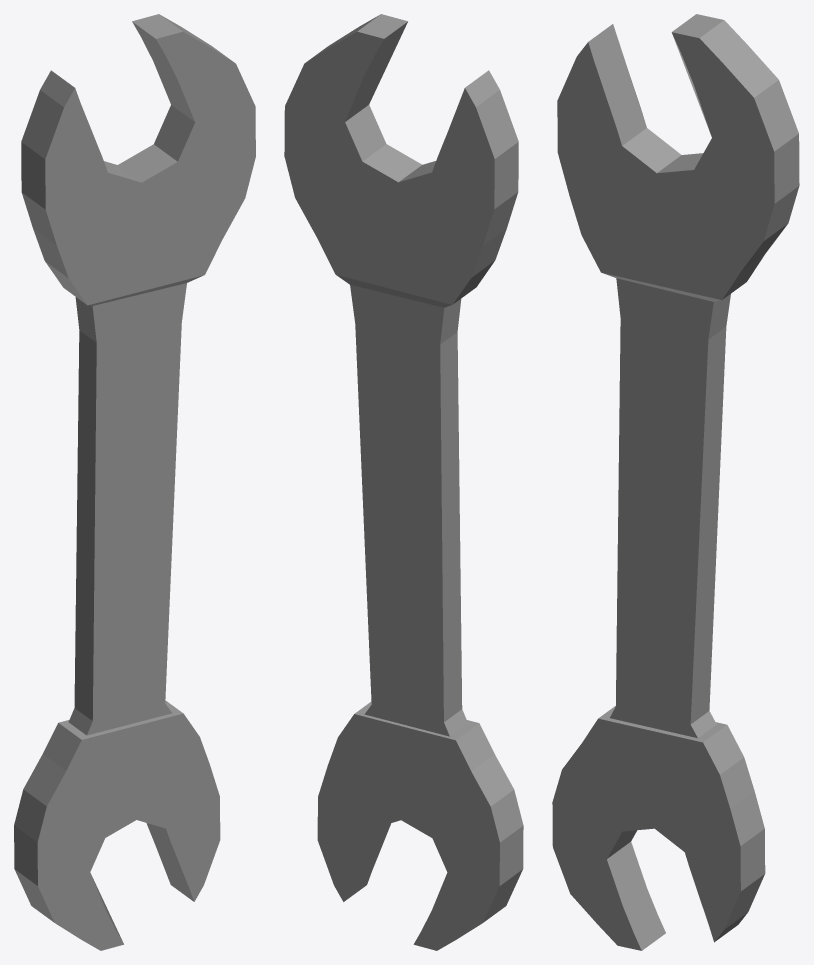
Rendered from wrench02.obj.
3 views of the same model, side by side, from view 1: azimuth 30°, elevation 25°; view 2: azimuth 150°, elevation 25°; view 3: azimuth 330°, elevation 25° (orthographic). The views are drawn at different scales.
Parts seen in each view (by area): view 1: Cube_Cube.002; view 2: Cube_Cube.002; view 3: Cube_Cube.002.
Part boxes in pixels (<box>): Cube_Cube.002: <box>14,14,255,950</box>; Cube_Cube.002: <box>284,14,523,950</box>; Cube_Cube.002: <box>552,14,799,950</box>.
Bounding box in the file's own units: 0.0519 × 0.206 × 0.0104.
1 material, 1 textured.
